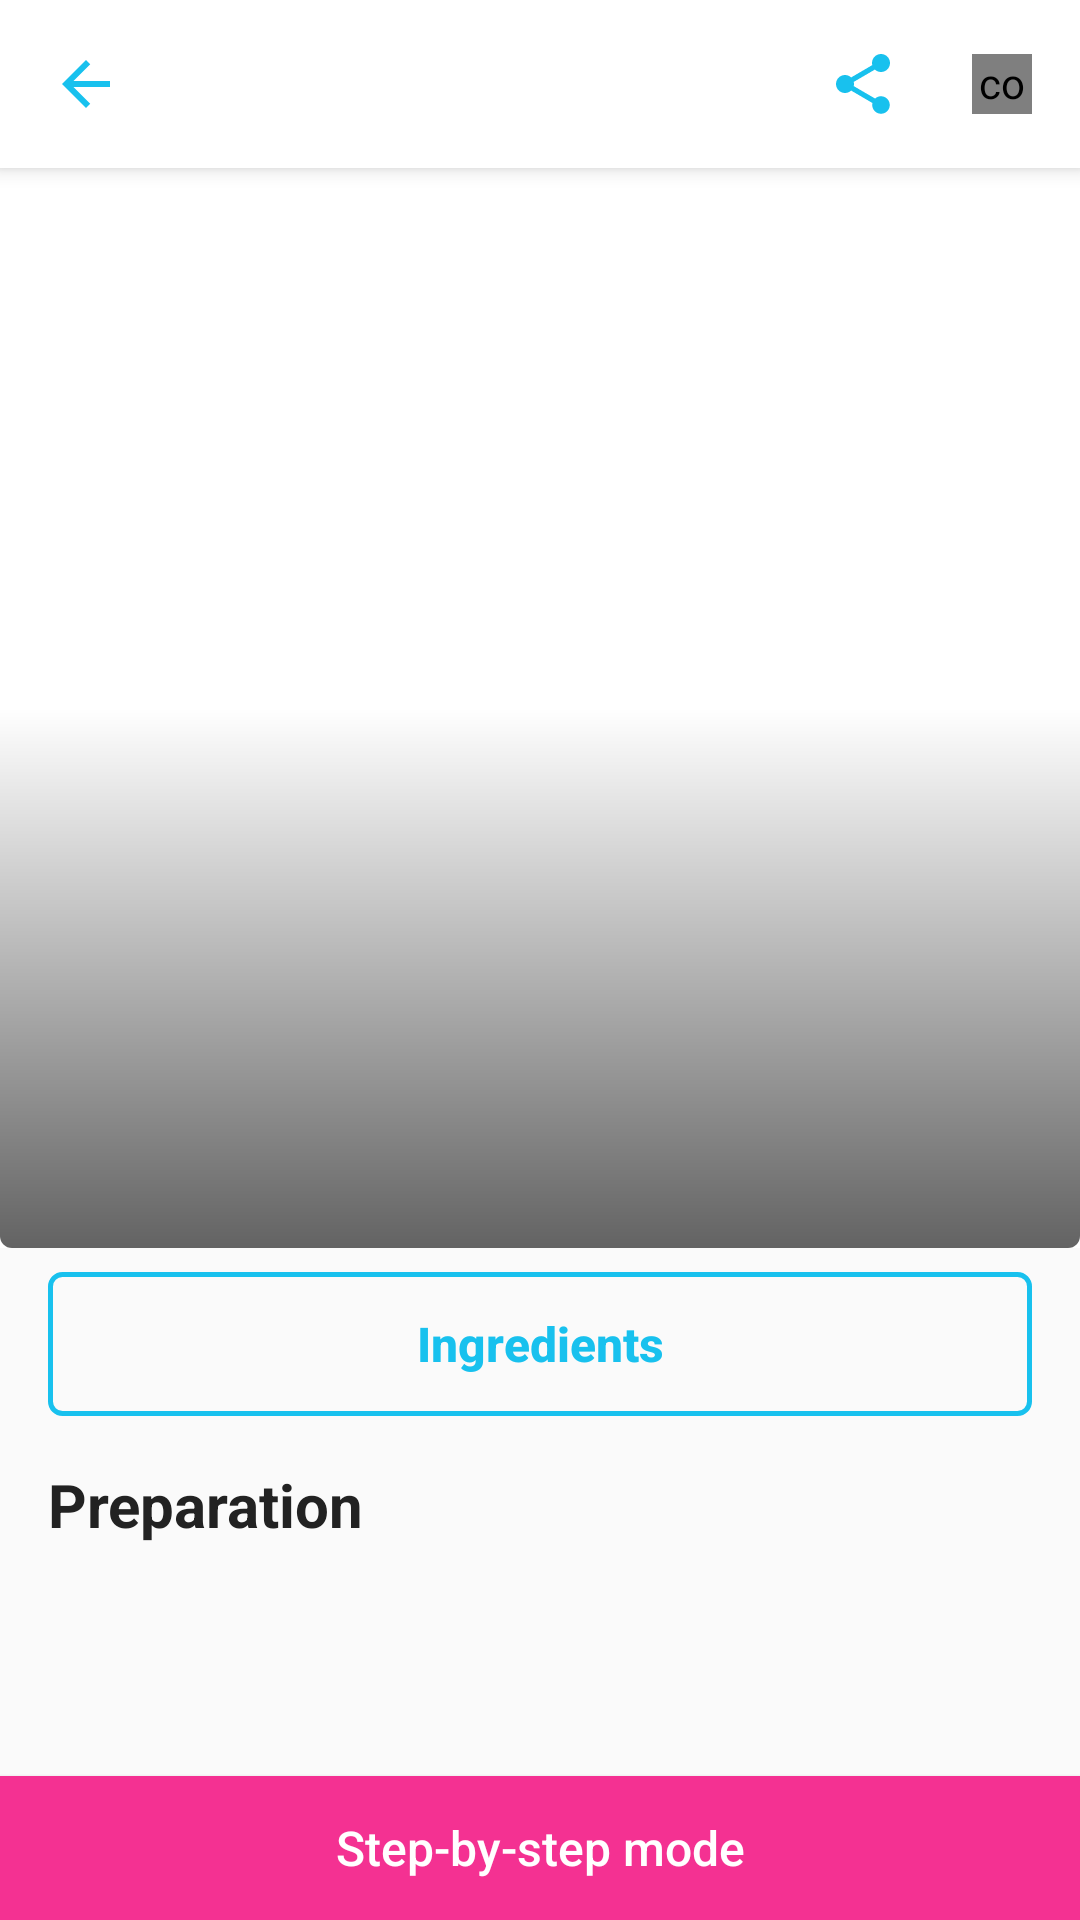

Point at icon controls on the screen. Image size 1080px x 1920px, points as (x,y).
arrow back: (86,84)
share button: (863,84)
